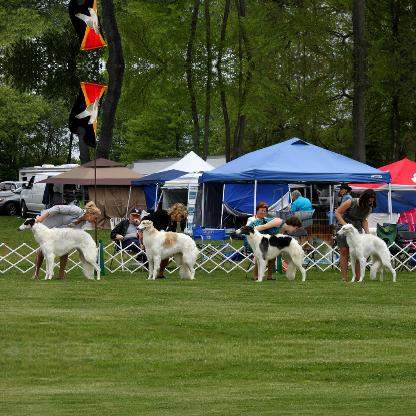Dog: (16, 217, 100, 279), (134, 218, 200, 280), (235, 224, 306, 280), (336, 221, 396, 281)
